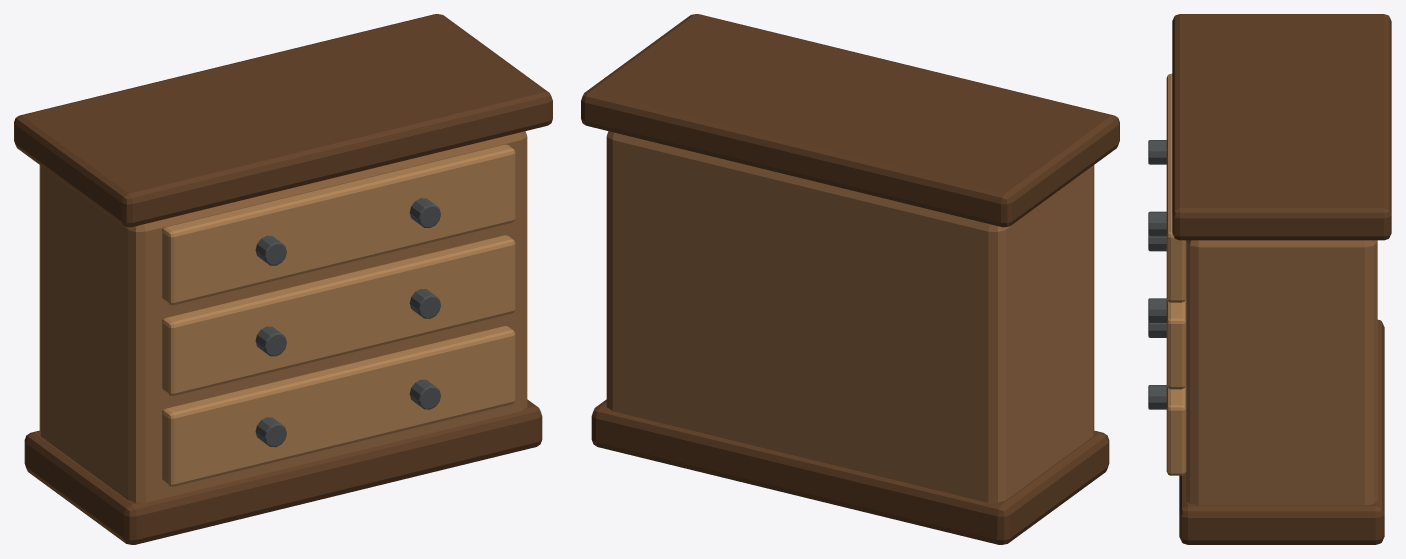
The model's file is dresser_1p3.glb.
The picture shows the model from 3 angles, left to right: view 1: azimuth 30°, elevation 25°; view 2: azimuth 150°, elevation 25°; view 3: azimuth 270°, elevation 25°; orthographic projection. The views are drawn at different scales.
Parts seen in each view (by area): view 1: dresser_top, dresser_body, dresser_drawer_02, dresser_drawer_01, dresser_drawer_03, dresser_plinth, dresser_knob_02_01, dresser_knob_01_02, dresser_knob_01_01, dresser_knob_02_02, dresser_knob_03_01, dresser_knob_03_02; view 2: dresser_body, dresser_top, dresser_plinth; view 3: dresser_body, dresser_top, dresser_plinth, dresser_drawer_03, dresser_drawer_02, dresser_drawer_01, dresser_knob_03_02, dresser_knob_01_02, dresser_knob_02_02, dresser_knob_03_01.
Part boxes in pixels (x1,y1,x2,y2): dresser_top: (14, 14, 552, 227); dresser_body: (39, 131, 527, 502); dresser_drawer_02: (162, 235, 515, 395); dresser_drawer_01: (162, 326, 515, 486); dresser_drawer_03: (162, 144, 515, 305); dresser_plinth: (24, 399, 542, 544); dresser_knob_02_01: (255, 326, 286, 356); dresser_knob_01_02: (409, 379, 440, 409); dresser_knob_01_01: (255, 417, 286, 447); dresser_knob_02_02: (409, 289, 440, 318); dresser_knob_03_01: (255, 235, 286, 265); dresser_knob_03_02: (409, 198, 440, 227); dresser_body: (606, 131, 1094, 502); dresser_top: (581, 14, 1119, 227); dresser_plinth: (591, 399, 1109, 544); dresser_body: (1186, 240, 1377, 505); dresser_top: (1172, 14, 1391, 240); dresser_plinth: (1179, 319, 1384, 544); dresser_drawer_03: (1166, 73, 1186, 302); dresser_drawer_02: (1166, 299, 1186, 389); dresser_drawer_01: (1166, 385, 1186, 475); dresser_knob_03_02: (1148, 211, 1166, 236); dresser_knob_01_02: (1148, 385, 1166, 409); dresser_knob_02_02: (1148, 298, 1166, 322); dresser_knob_03_01: (1148, 140, 1166, 164).
Size of the model in its own units: 1.34 by 1.06 by 0.6875.
